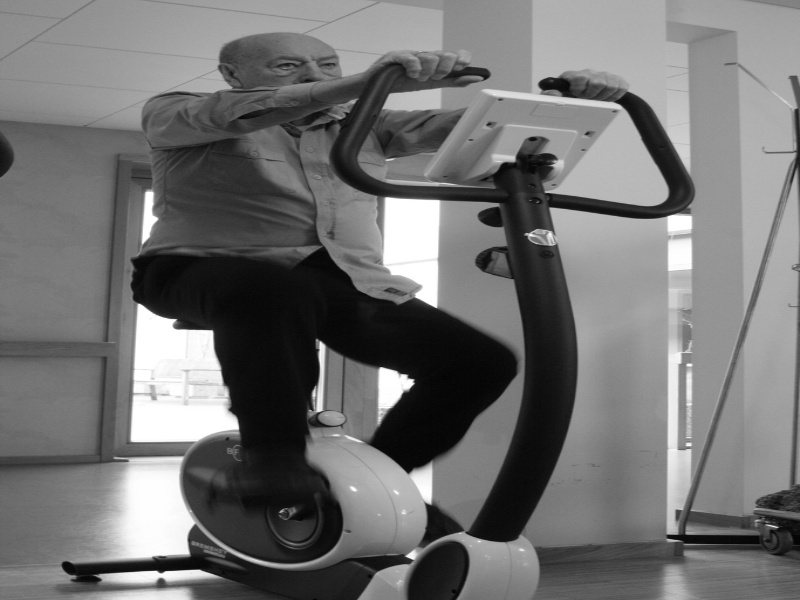person: (153, 14, 514, 564)
